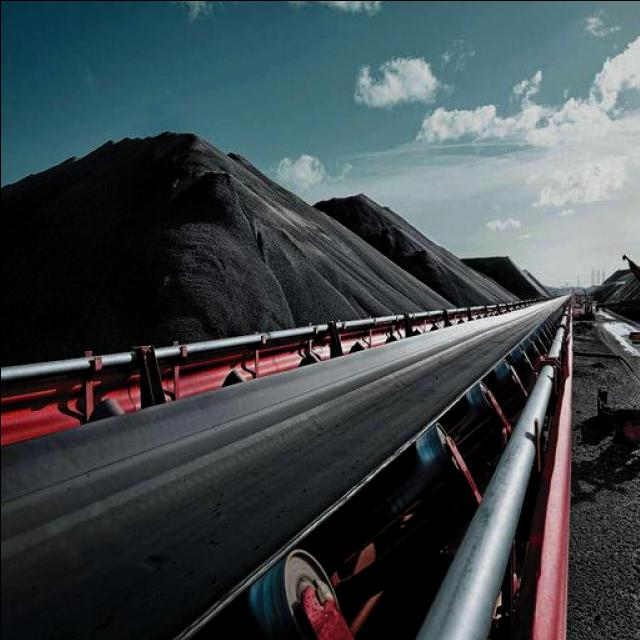conveyor: (0, 296, 571, 640)
